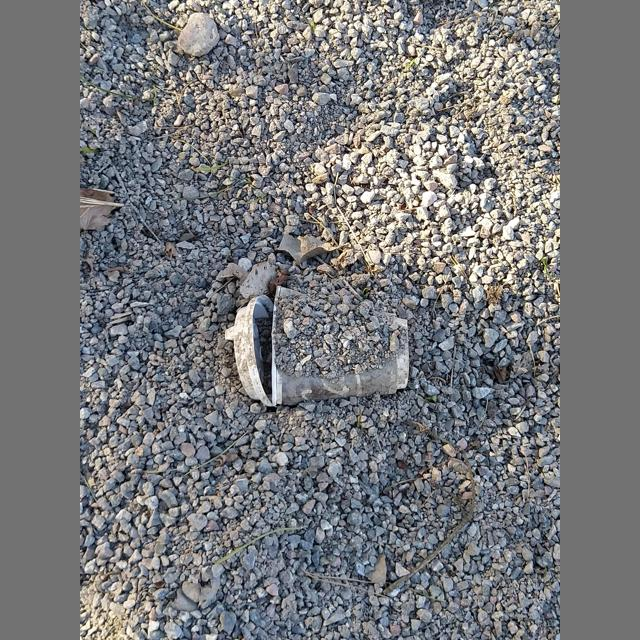litter: (271, 285, 409, 406), (225, 295, 277, 407)
